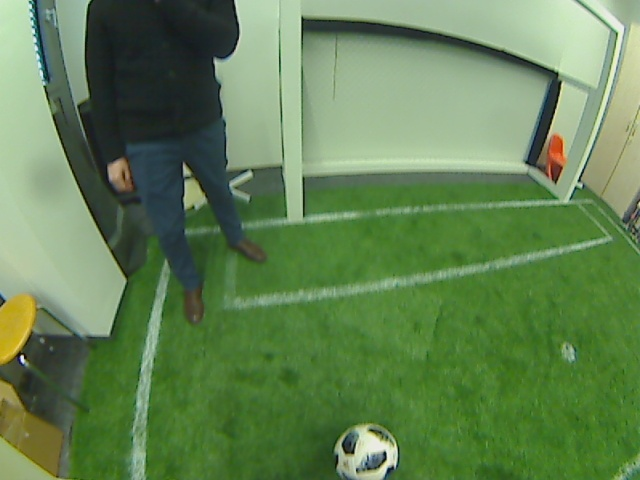ball: (331, 422, 401, 480)
